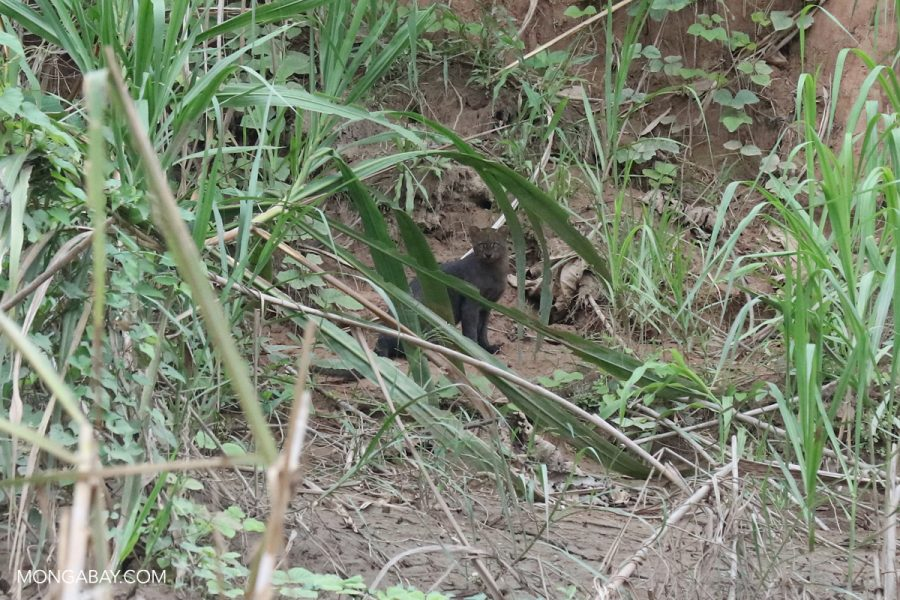Jaguarundi: (371, 222, 525, 362)
